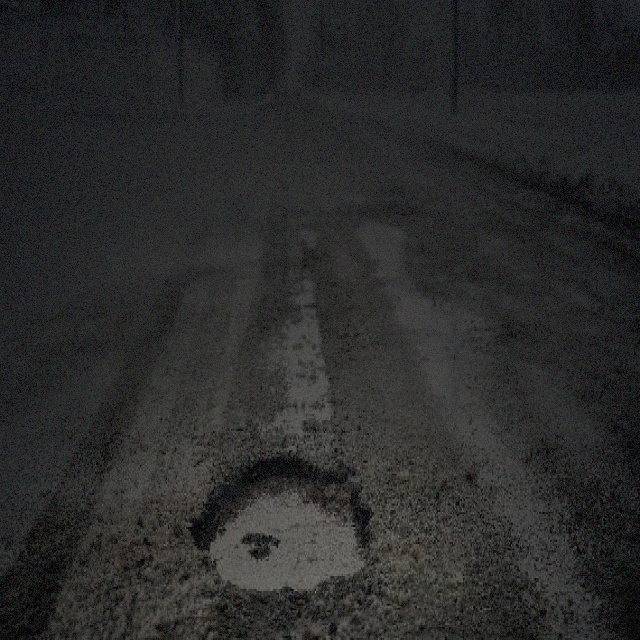pothole: (185, 444, 377, 595)
